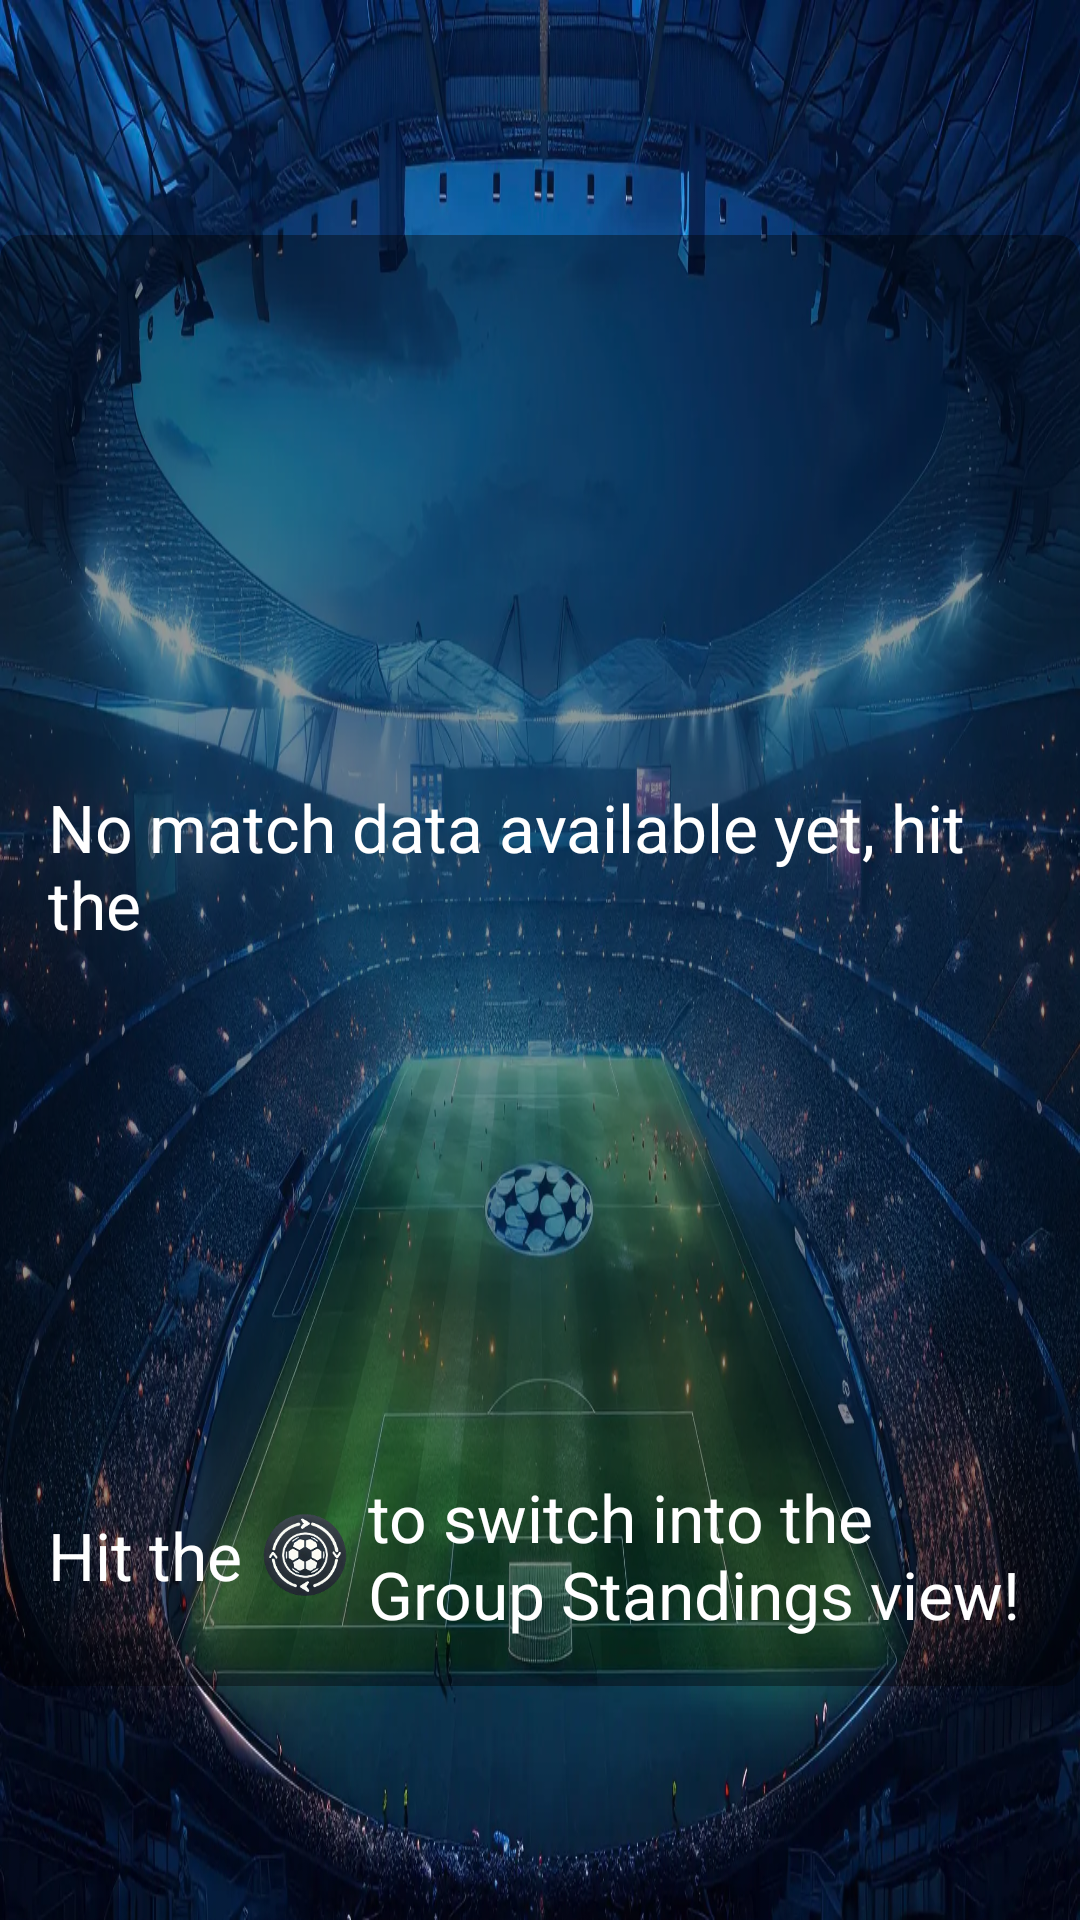

Icon bounding boxes for this 1080px x 1920px phone screenshot, format rect(x1, y1, x2, y2):
simulate: rect(264, 1507, 353, 1603)
